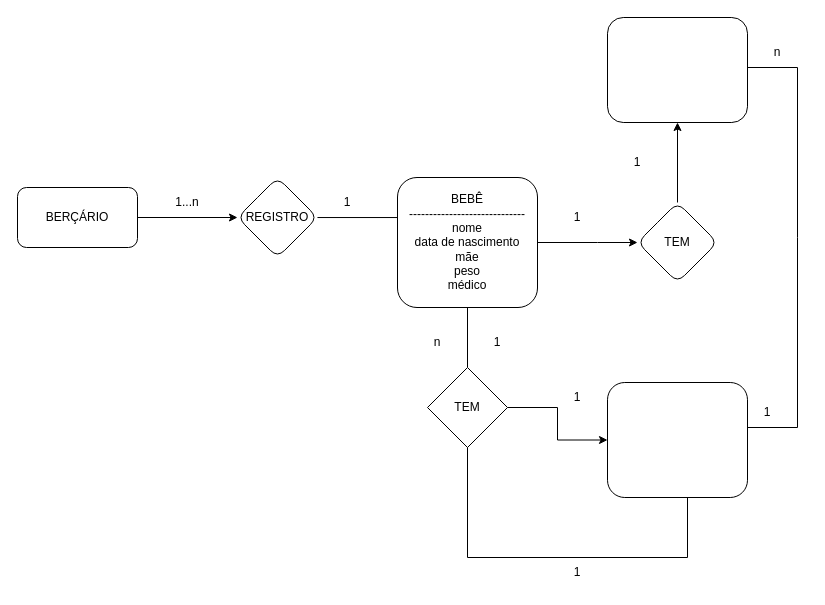
This 825x605 diagram has some shape labels left out. Each missing label, with the centre of its shape:
MÃE ----------------------------- data de nascimento nome endereço telefone: point (677, 69)
MÉDICO ----------------------------- nome crm telefone especialidade: point (677, 440)
